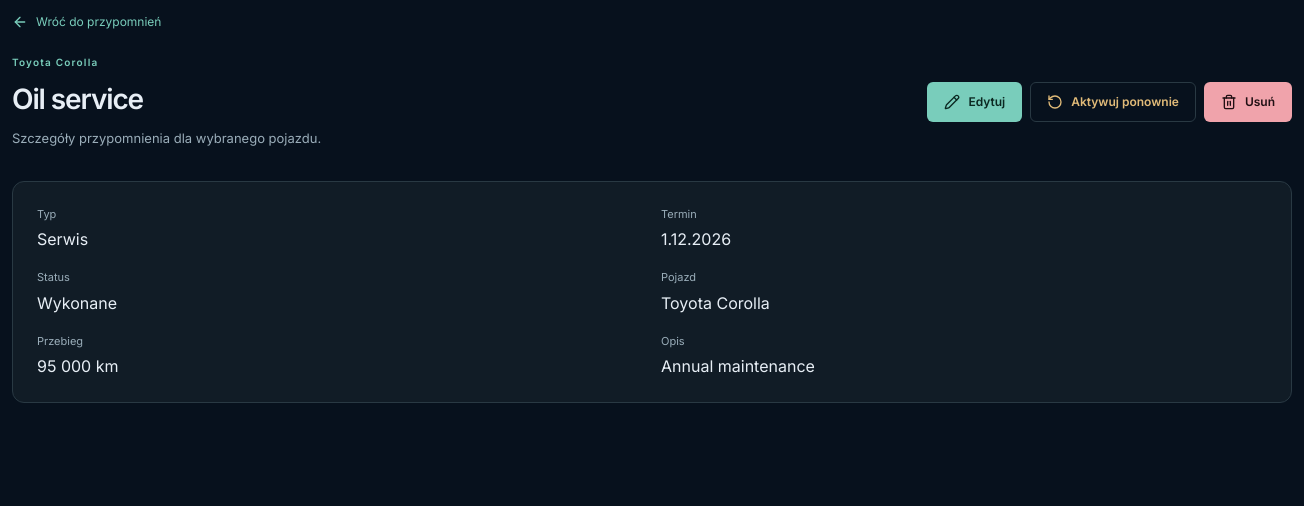
it: ReminderDetailPage actions › reactivates completed or cancelled reminders
Click the button "Aktywuj ponownie" at (1113, 102), box [1030,82,1196,122]
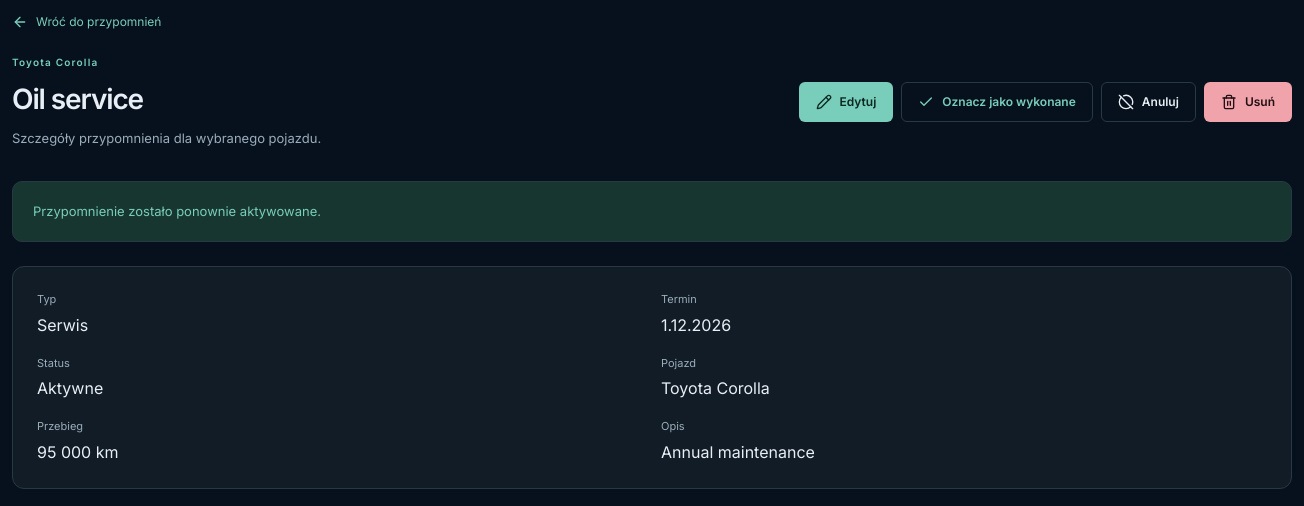
expect the text "Aktywne" is shown: met, box [37,378,103,398]
expect the text "Przypomnienie zostało ponownie aktywowane." is shown: met, box [12,180,1292,242]
